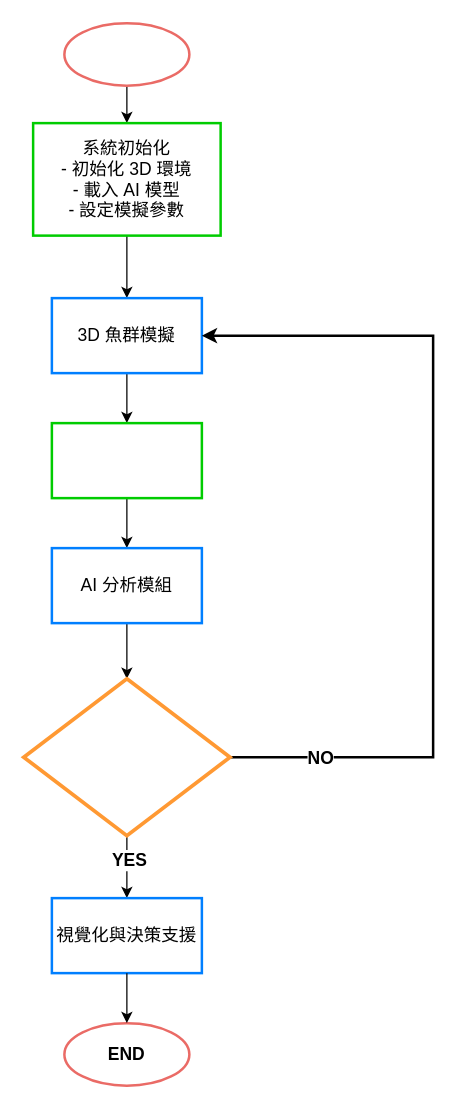
Image size: 465x1108. Some labels were removed from this diagram. Each missing label, with the box of its shape:
start: (62, 21, 190, 86)
是否偵測到異常狀態？: (21, 676, 231, 837)
模擬輸出產生: (50, 421, 202, 499)
